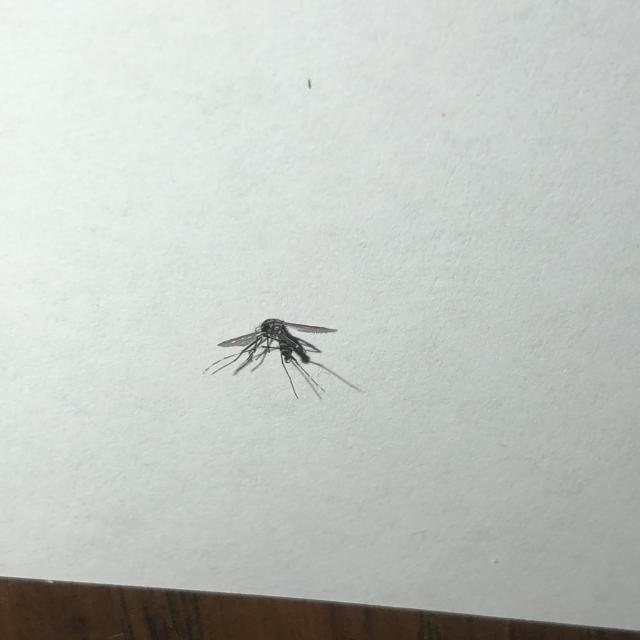albopictus: (204, 311, 362, 403)
